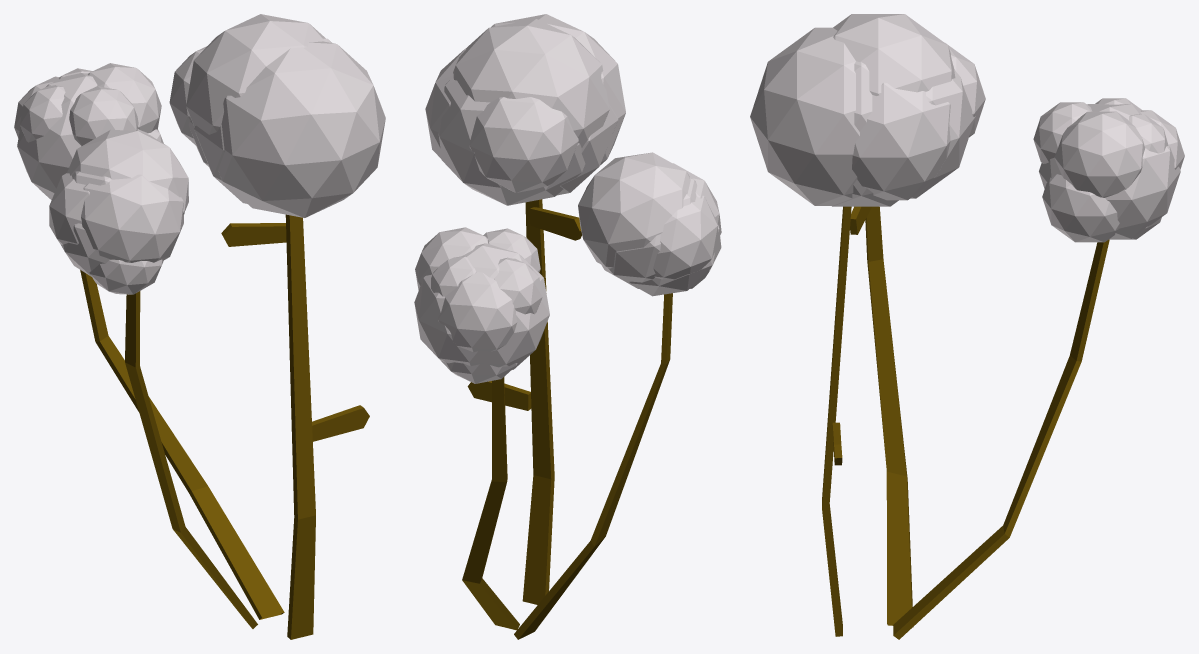
The model's file is COTTON.fbx.
3 views of the same model, side by side, from view 1: azimuth 30°, elevation 25°; view 2: azimuth 150°, elevation 25°; view 3: azimuth 270°, elevation 25° (orthographic). The views are drawn at different scales.
Parts seen in each view (by area): view 1: COTTON FLOWER; view 2: COTTON FLOWER; view 3: COTTON FLOWER.
Boxes of the visible parts, <box> form: COTTON FLOWER: <box>14,14,385,639</box>; COTTON FLOWER: <box>414,14,721,639</box>; COTTON FLOWER: <box>750,14,1184,639</box>.
Size of the model in its own units: 43.81 by 88.16 by 56.62.
